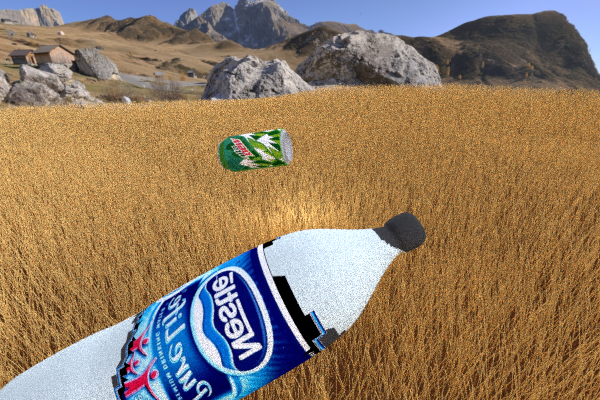Plastic Bottle: (0, 212, 426, 400), (217, 128, 292, 171), (382, 113, 412, 146)
